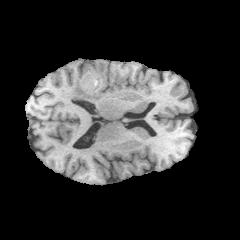glioma: (73, 60, 124, 101)
